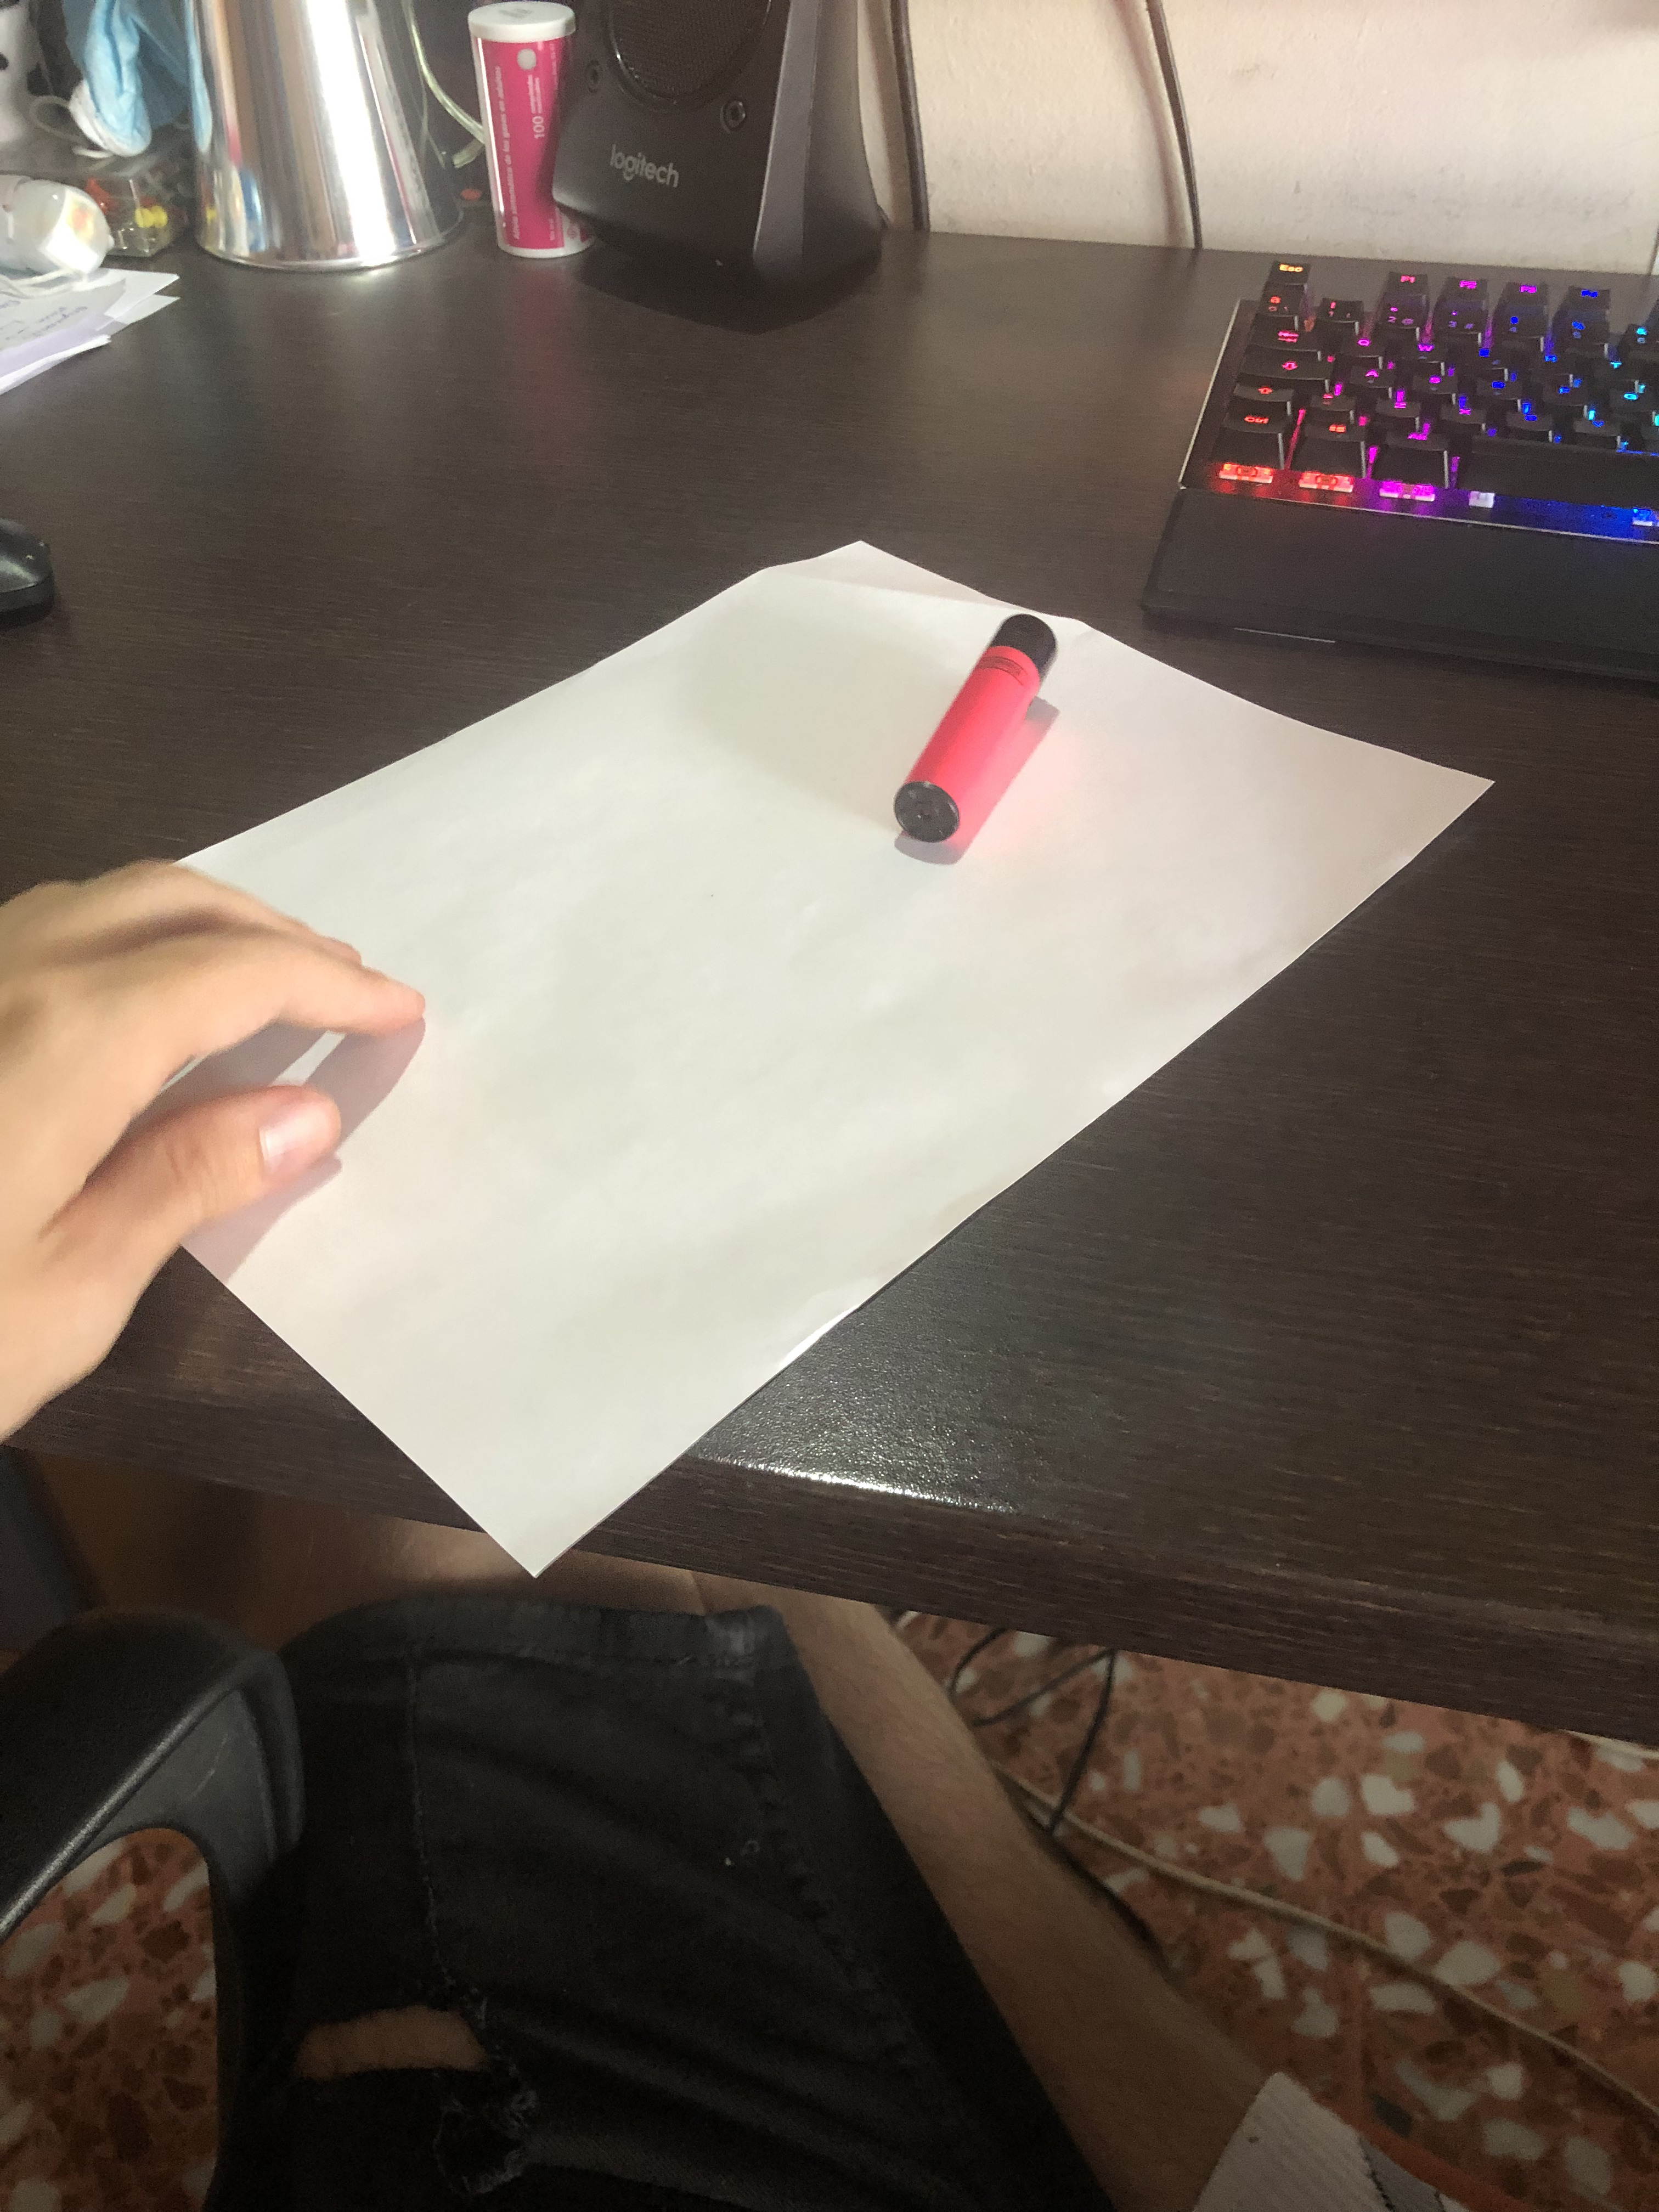Mechero: (871, 597, 1079, 862)
